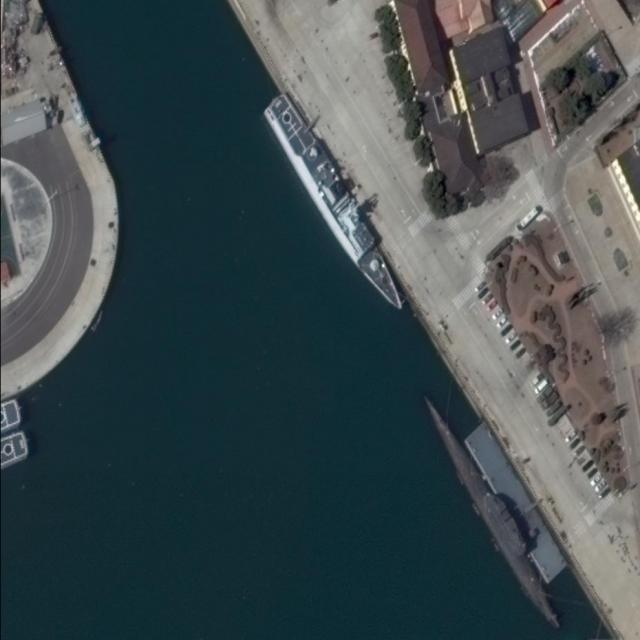Auxiliary Ships: (257, 91, 414, 319)
Submarine: (416, 385, 568, 633)
